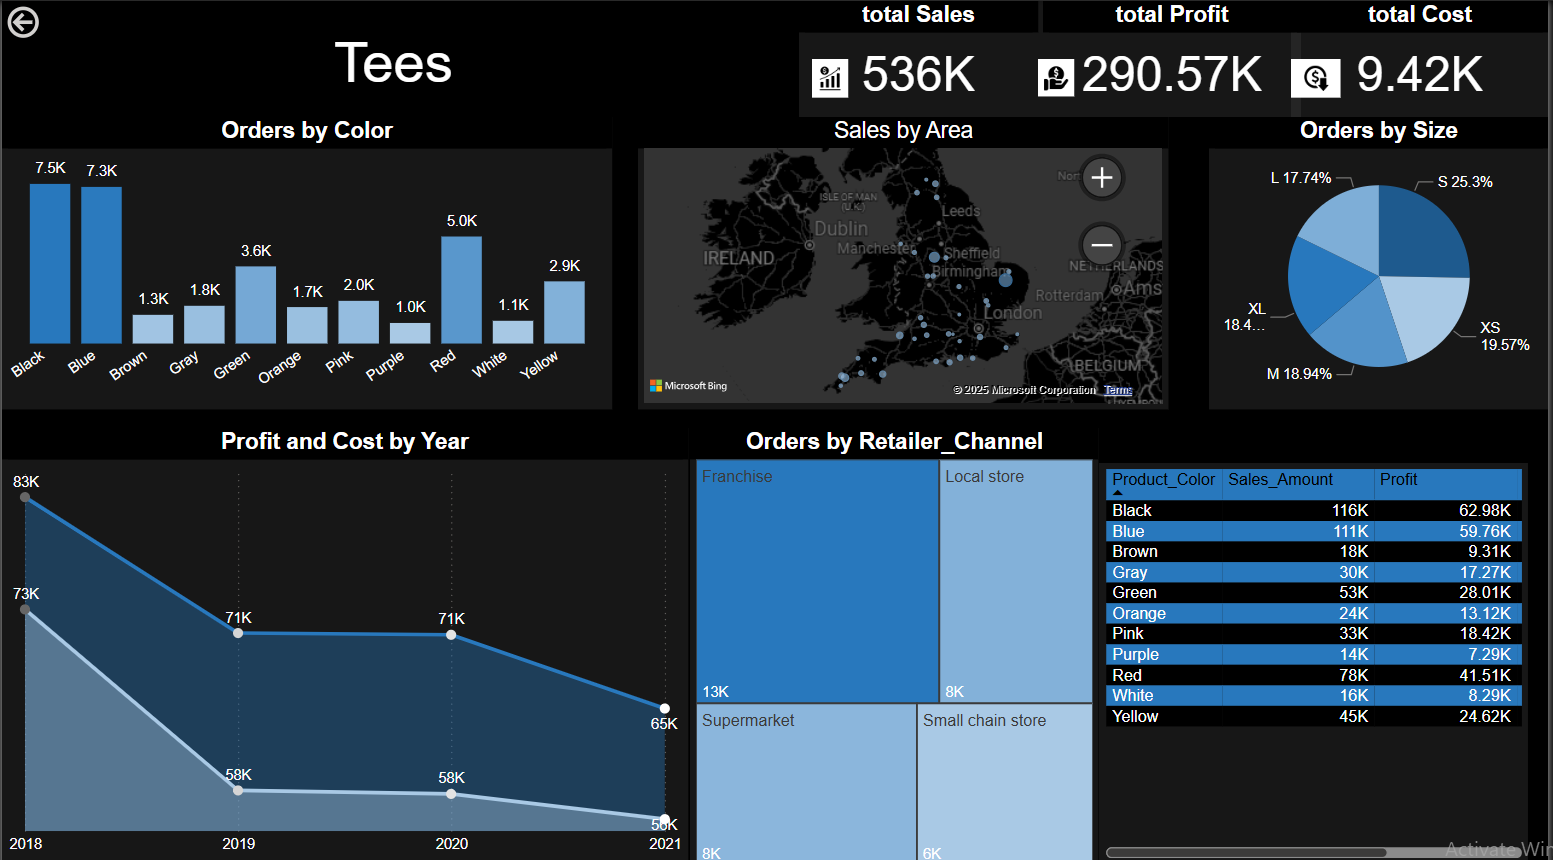

Layout of this report page (visuals, bound fields, positions):
{"tool":"powerbi","page":{"name":"Tees","canvas":[1280,720],"ordinal":5},"visuals":[{"type":"card","fields":{"Values":["Table.Tees"]},"box":[0,0,648,95.7],"z":0,"group":"g1"},{"type":"card","title":"total Sales","fields":{"Values":["Sum(Orders.Sales_Amount)"]},"box":[659.6,0,197.8,96],"z":0,"group":"g3"},{"type":"card","title":"total Profit","fields":{"Values":["Sum(Orders.Profit)"]},"box":[861.3,0,213.4,95.7],"z":0,"group":"g2"},{"type":"card","title":"total Cost","fields":{"Values":["Sum(Orders.Product_Cost)"]},"box":[1066.6,0,213.4,95.7],"z":0,"group":"g4"},{"type":"actionButton","box":[0,0,58,35.1],"z":1000,"group":"g1"},{"type":"image","box":[857.1,48.1,30.5,31.4],"z":1000,"group":"g2"},{"type":"image","box":[670.2,48.3,30.1,31.5],"z":1000,"group":"g3"},{"type":"image","box":[1066.6,48.3,41.3,31.6],"z":1000,"group":"g4"},{"type":"group","id":"g1","title":"Group 1","box":[0,0,648,95.7],"z":7000},{"type":"group","id":"g2","title":"Group 2","box":[857.1,0,217.5,95.7],"z":10001},{"type":"group","id":"g3","title":"Group 3","box":[659.6,0,197.8,96],"z":10002},{"type":"clusteredColumnChart","title":"Orders by Color","fields":{"Y":["Sum(Orders. Order_Quantity )"],"Category":["Products.Product_Color","Products.Product_Size"]},"box":[0,96,504.8,242.5],"z":10003},{"type":"tableEx","fields":{"Values":["Products.Product_Color","Sum(Orders.Sales_Amount)","Sum(Orders.Profit)","Sum(Orders.Cost_of_Goods_Sold)"]},"box":[907.9,382.3,355,331.9],"z":10004},{"type":"areaChart","title":"Profit and Cost by Year","fields":{"Category":["Orders.Order_Date.Variation.Date Hierarchy.Year","Orders.Order_Date.Variation.Date Hierarchy.Month"],"Y":["Sum(Orders.Profit)","Sum(Orders.Cost_of_Goods_Sold)"]},"box":[0,353.6,567.5,360.5],"z":10005},{"type":"treemap","title":"  Orders  by Retailer_Channel","fields":{"Values":["Sum(Orders. Order_Quantity )"],"Group":["Retailers.Retailer_Channel","Products.Product_Size"]},"box":[569.4,353.4,338.5,366.6],"z":10006},{"type":"pieChart","title":" Orders by Size","fields":{"Y":["Sum(Orders. Order_Quantity )"],"Category":["Products.Product_Size"]},"box":[998.8,95.7,281.2,242.4],"z":10007},{"type":"group","id":"g4","title":"Group 4","box":[1066.6,0,213.4,95.7],"z":10008},{"type":"map","title":" Sales by Area","fields":{"Size":["Sum(Orders.Sales_Amount)"],"Category":["Retailers.City","Retailers.Area"]},"box":[526.3,96,439.4,242.5],"z":10009}]}

Visuals, with their boxes in screenshot pixels (x1, y1, x2, y2), scaled from the page's 1280x720 canvas onto the 1553x860 screenshot:
card - Table.Tees: l=0, t=0, r=786, b=114
"total Sales" card: l=800, t=0, r=1040, b=115
"total Profit" card: l=1045, t=0, r=1304, b=114
"total Cost" card: l=1294, t=0, r=1552, b=114
actionButton: l=0, t=0, r=70, b=42
image: l=1040, t=57, r=1077, b=95
image: l=813, t=58, r=850, b=95
image: l=1294, t=58, r=1344, b=95
"Group 1" group: l=0, t=0, r=786, b=114
"Group 2" group: l=1040, t=0, r=1304, b=114
"Group 3" group: l=800, t=0, r=1040, b=115
"Orders by Color" clusteredColumnChart: l=0, t=115, r=612, b=404
tableEx - Products.Product_Color x Sum(Orders.Sales_Amount): l=1102, t=457, r=1532, b=853
"Profit and Cost by Year" areaChart: l=0, t=422, r=689, b=853
"  Orders  by Retailer_Channel" treemap: l=691, t=422, r=1102, b=859
" Orders by Size" pieChart: l=1212, t=114, r=1552, b=404
"Group 4" group: l=1294, t=0, r=1552, b=114
" Sales by Area" map: l=639, t=115, r=1172, b=404
